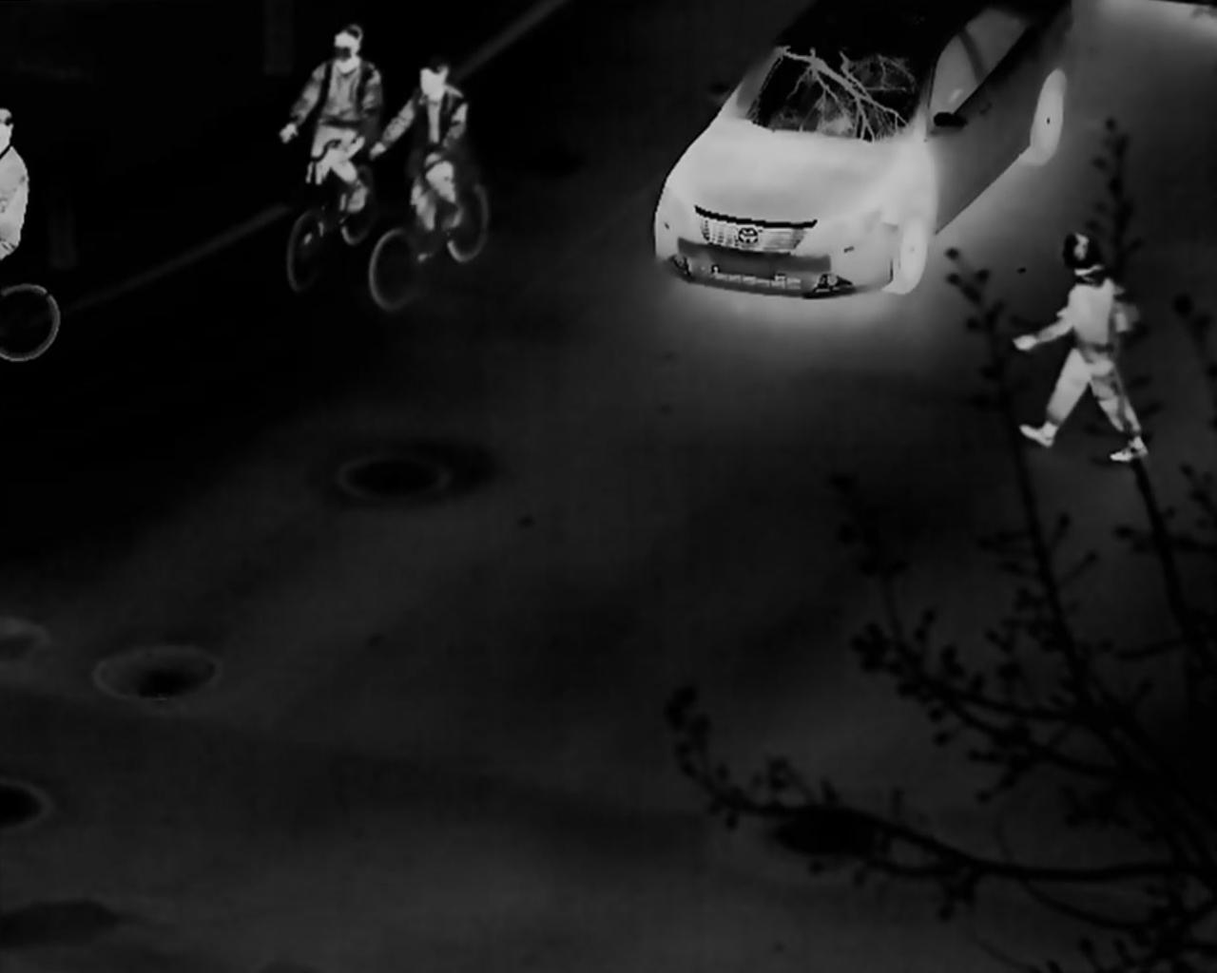person: (1010, 232, 1151, 461), (375, 61, 468, 265), (280, 25, 379, 212)
